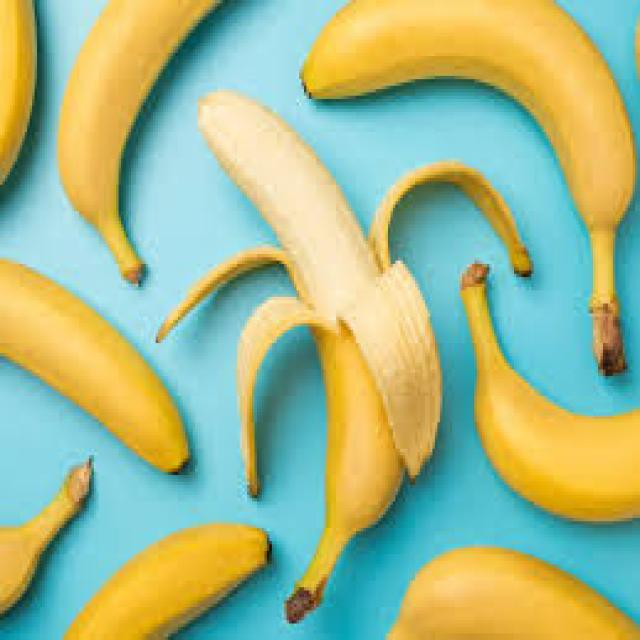Banana: (192, 88, 438, 626), (295, 0, 635, 367), (53, 0, 230, 288), (454, 258, 640, 525), (0, 253, 192, 480), (57, 521, 286, 640), (388, 549, 640, 640), (0, 449, 98, 615), (0, 0, 41, 196)
